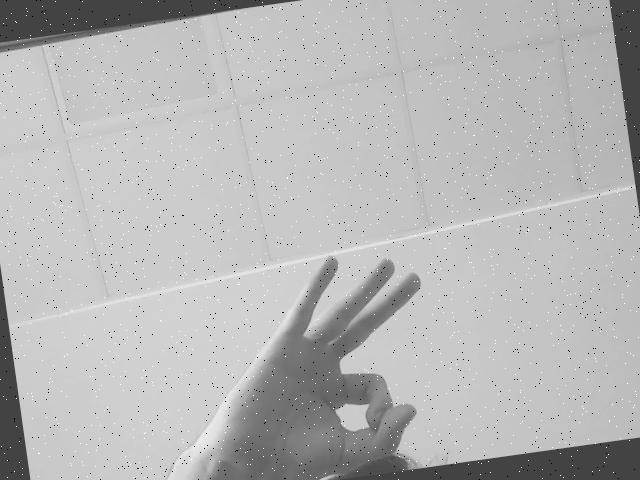OK: (245, 240, 460, 461)
